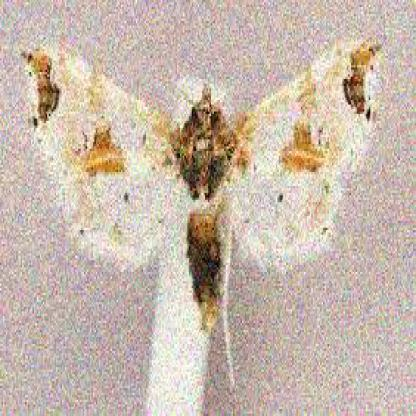leucinodes: (21, 37, 378, 335)
